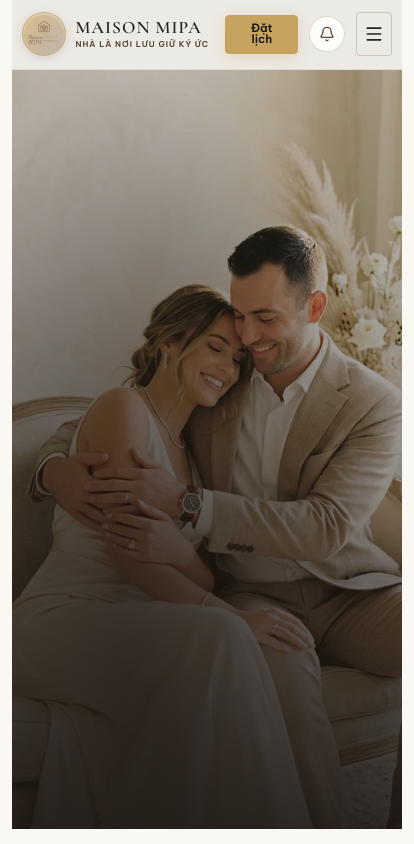
Test: Visual Commerce Hardening & Data Integrity Pass › 12. Mobile staff: Staff OS Portal reachable in mobile menu
This screenshot has width=414, height=844.
Click the button named "Mở menu điều hướng" at (374, 34), box [356, 12, 392, 56]
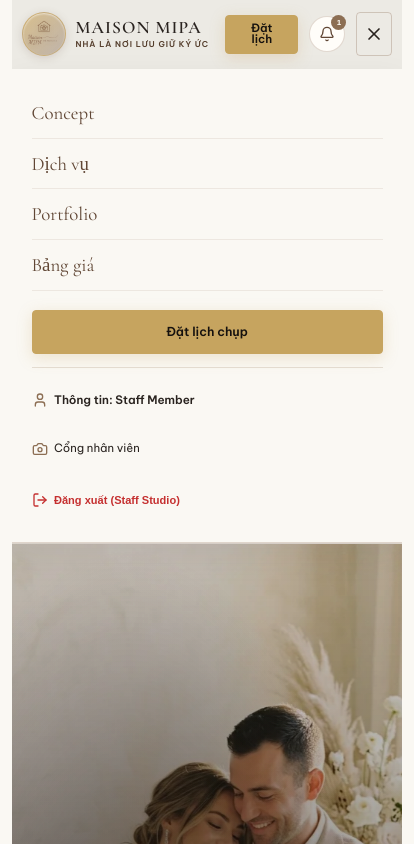
Now the link "Cổng nhân viên" is shown, box [32, 440, 140, 456]
